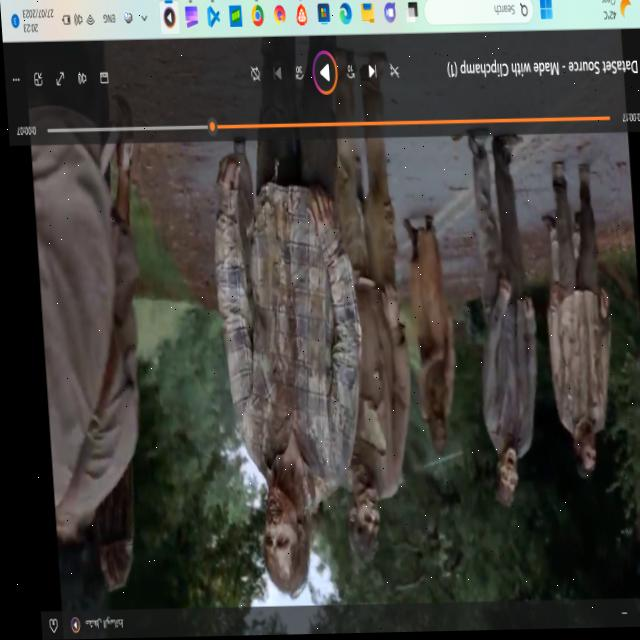Zombie: (254, 485, 299, 592), (344, 483, 376, 557), (493, 447, 512, 503), (571, 429, 593, 472), (424, 416, 444, 454)
